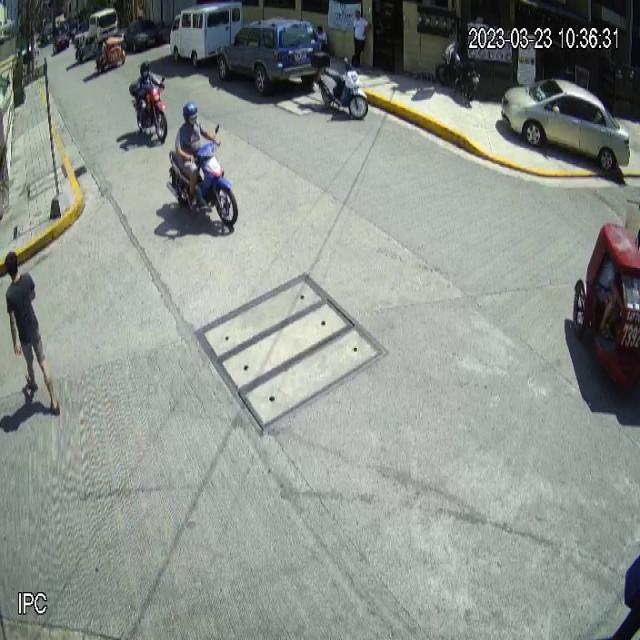Car: (500, 76, 631, 175), (216, 17, 322, 98)
Motorcycle: (164, 123, 240, 228), (310, 49, 370, 121), (128, 76, 169, 144)
Tricycle: (568, 189, 640, 390)
Van: (169, 1, 245, 67)
